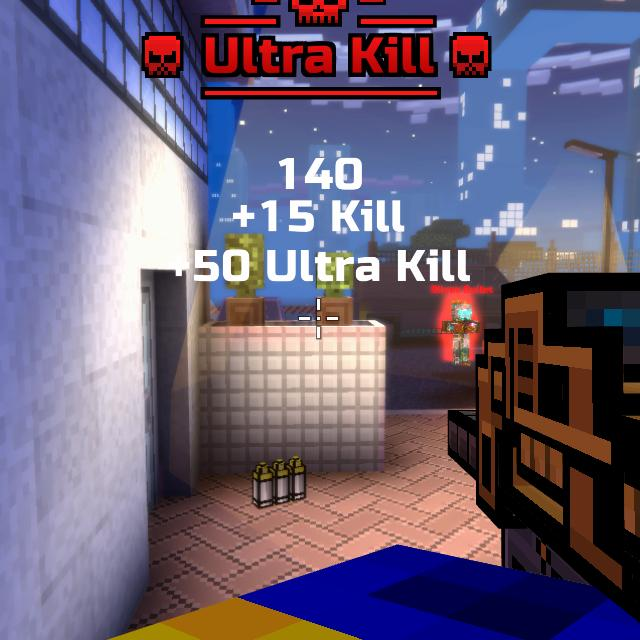Enemy: (439, 303, 478, 367)
